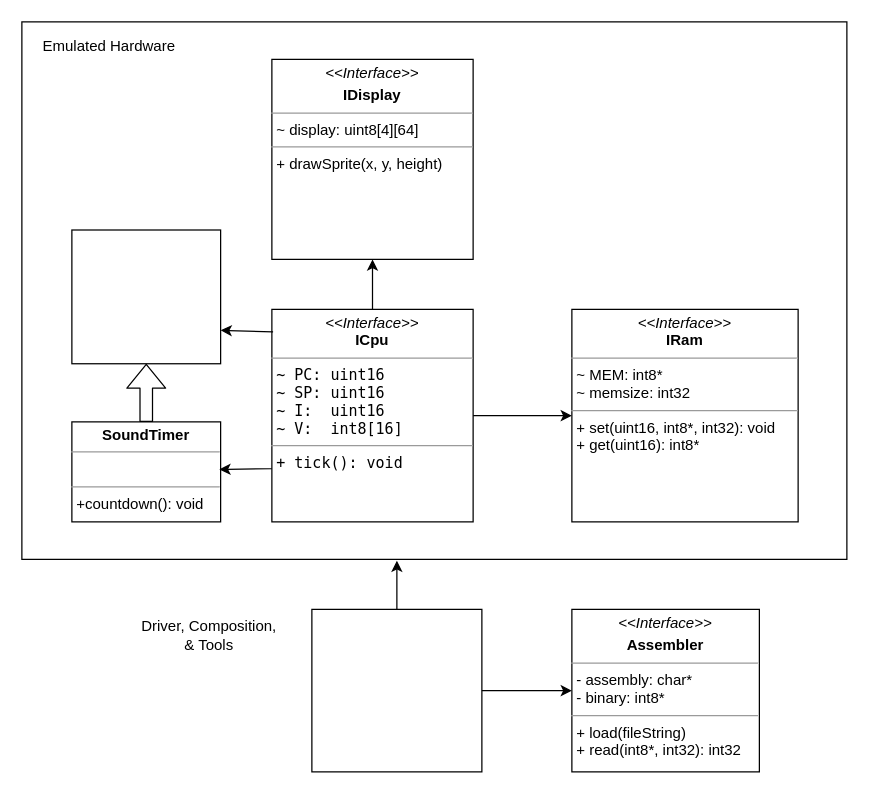
The diagram is 869 pixels wide and 794 high, and some of its shapes have lost their labels. Each missing label, with the centre of its shape:
"<<Interface>> IController ~ CLOCK_HZ: int32 ~ TIMER_HZ: int32" goes at (396,690).
"Timer - timer: int8 + set(int8): void + read(): int8 + countdown(): void" goes at (146,296).
